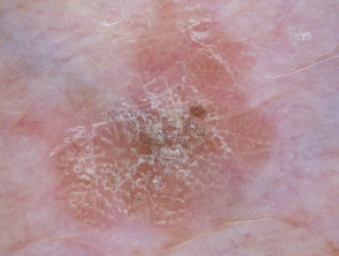seborrheic keratosis: (26, 20, 293, 245)
